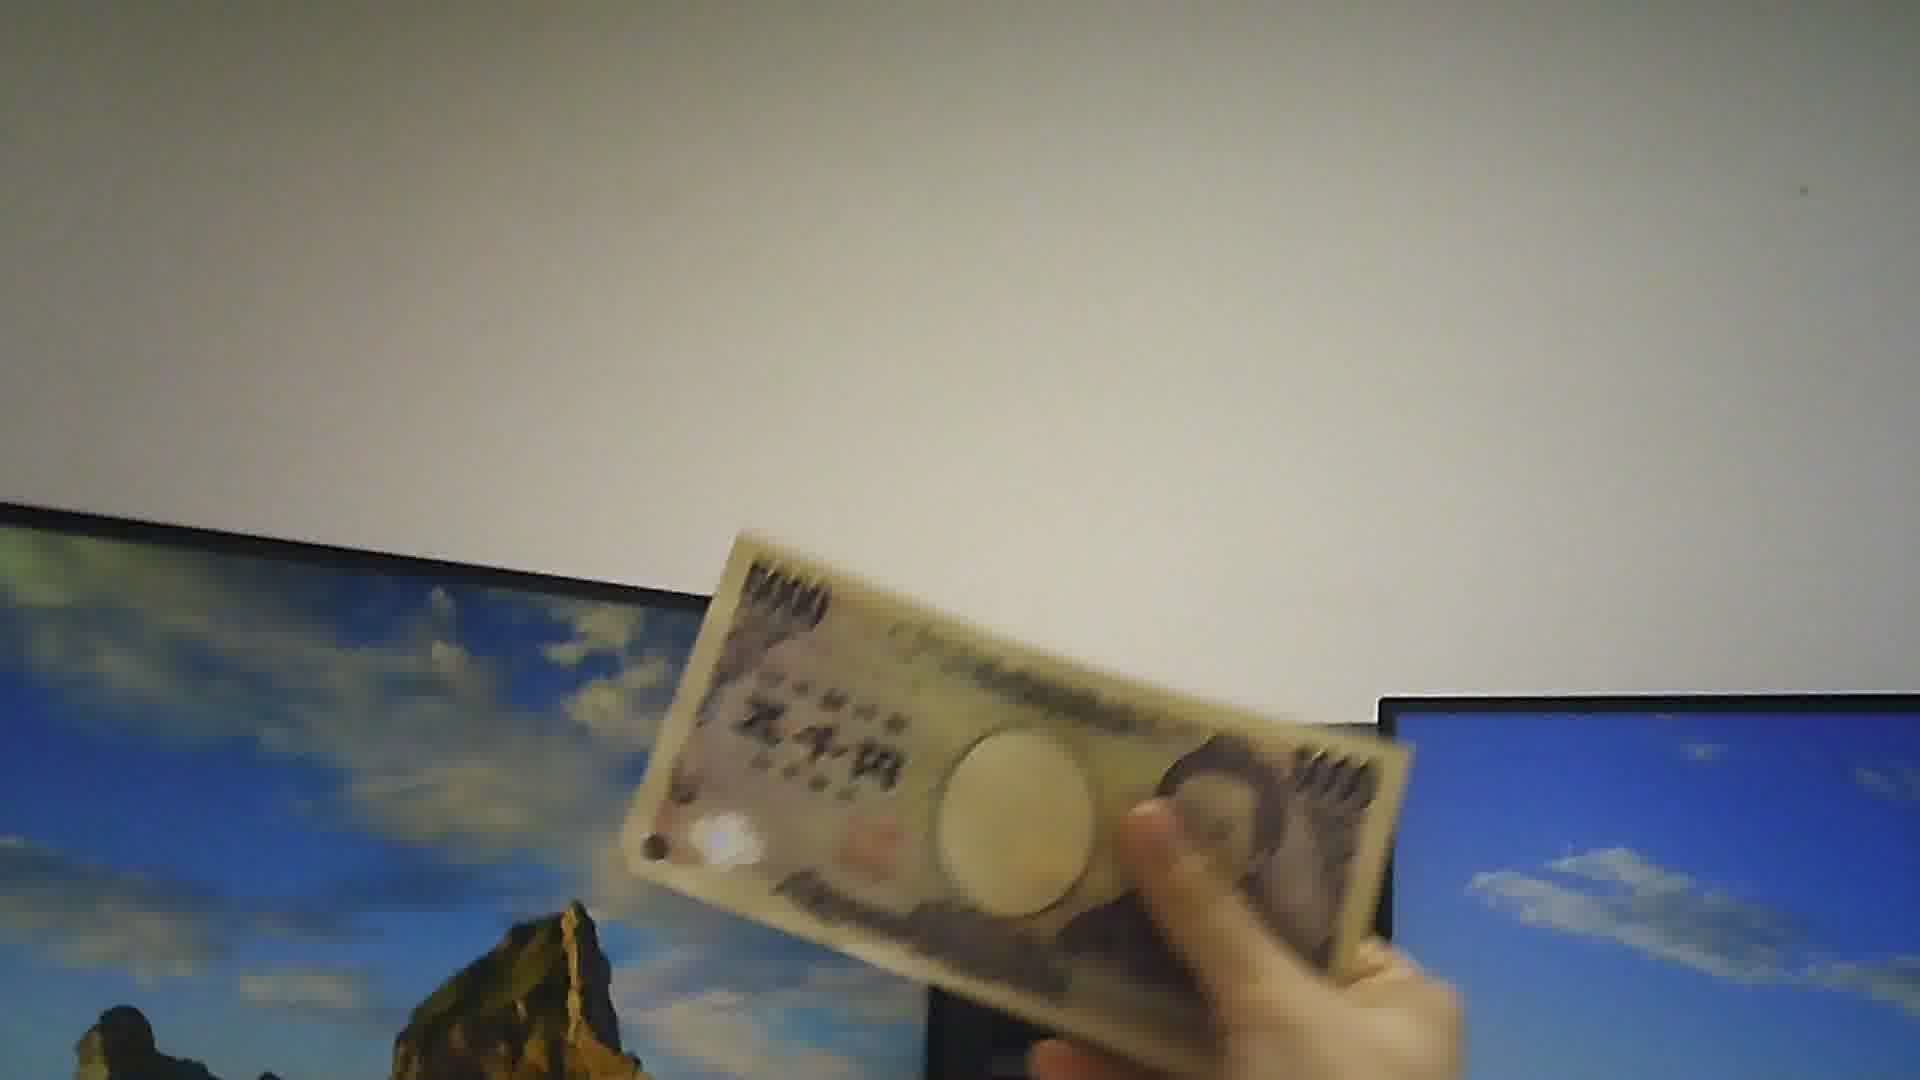5,000 Yen: (622, 516, 1443, 1075)
